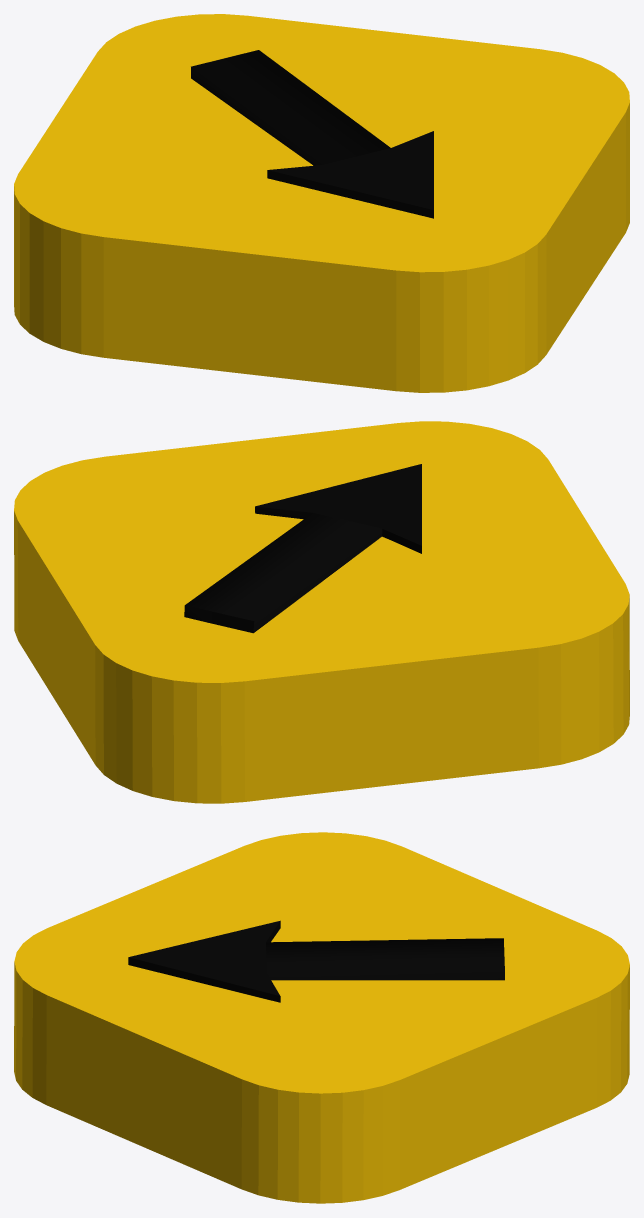
Rendered from arrowSignal.fbx.
3 views of the same model, one above another, from view 1: azimuth 30°, elevation 25°; view 2: azimuth 150°, elevation 25°; view 3: azimuth 270°, elevation 25° (orthographic). The views are drawn at different scales.
Parts seen in each view (by area): view 1: Curve.004; view 2: Curve.004; view 3: Curve.004.
Boxes of the visible parts, x1,y1,x2,y2 form: Curve.004: [14, 14, 629, 392]; Curve.004: [14, 421, 629, 803]; Curve.004: [14, 832, 629, 1203].
Bounding box in the file's own units: 158 × 34.44 × 158.
